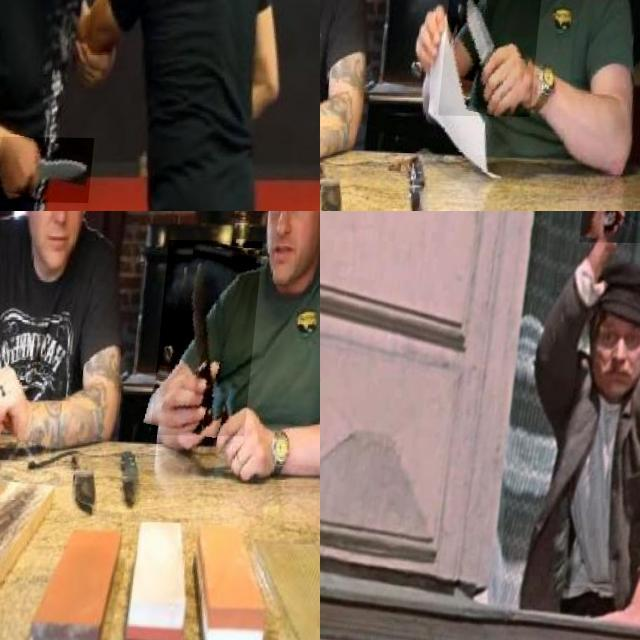-: (159, 239, 267, 435), (445, 0, 547, 115), (0, 135, 103, 202)
gun-knife-thesis - v11 Yolov5 augmented: (582, 211, 640, 276)
